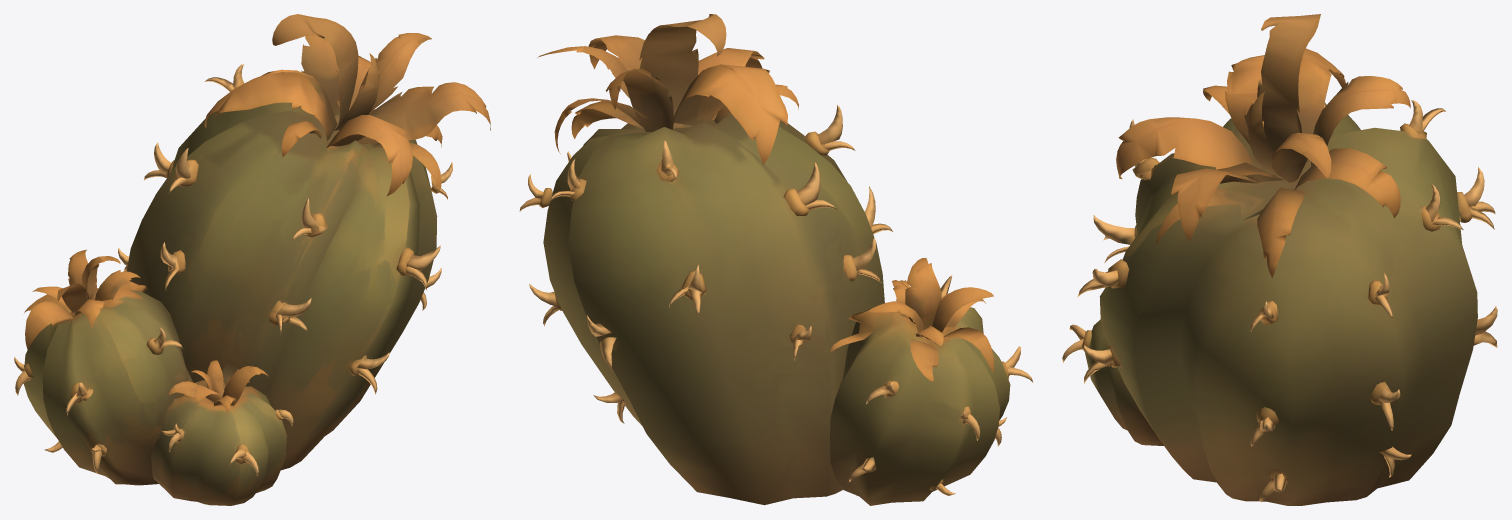
Rendered from barrel-cactus.glb.
The picture shows the model from 3 angles, left to right: view 1: azimuth 30°, elevation 25°; view 2: azimuth 150°, elevation 25°; view 3: azimuth 270°, elevation 25°; orthographic projection. The views are drawn at different scales.
Visible parts, largest first — view 1: tripo_node_f5fc02af-e176-457d-bf4a-1cf5e0af4865; view 2: tripo_node_f5fc02af-e176-457d-bf4a-1cf5e0af4865; view 3: tripo_node_f5fc02af-e176-457d-bf4a-1cf5e0af4865.
Boxes of the visible parts, x1,y1,x2,y2 form: tripo_node_f5fc02af-e176-457d-bf4a-1cf5e0af4865: (14, 14, 490, 505); tripo_node_f5fc02af-e176-457d-bf4a-1cf5e0af4865: (519, 14, 1033, 505); tripo_node_f5fc02af-e176-457d-bf4a-1cf5e0af4865: (1062, 14, 1497, 505).
Bounding box in the file's own units: 0.9995 × 0.9048 × 0.731.
Materials: 1 (1 with a texture image).
